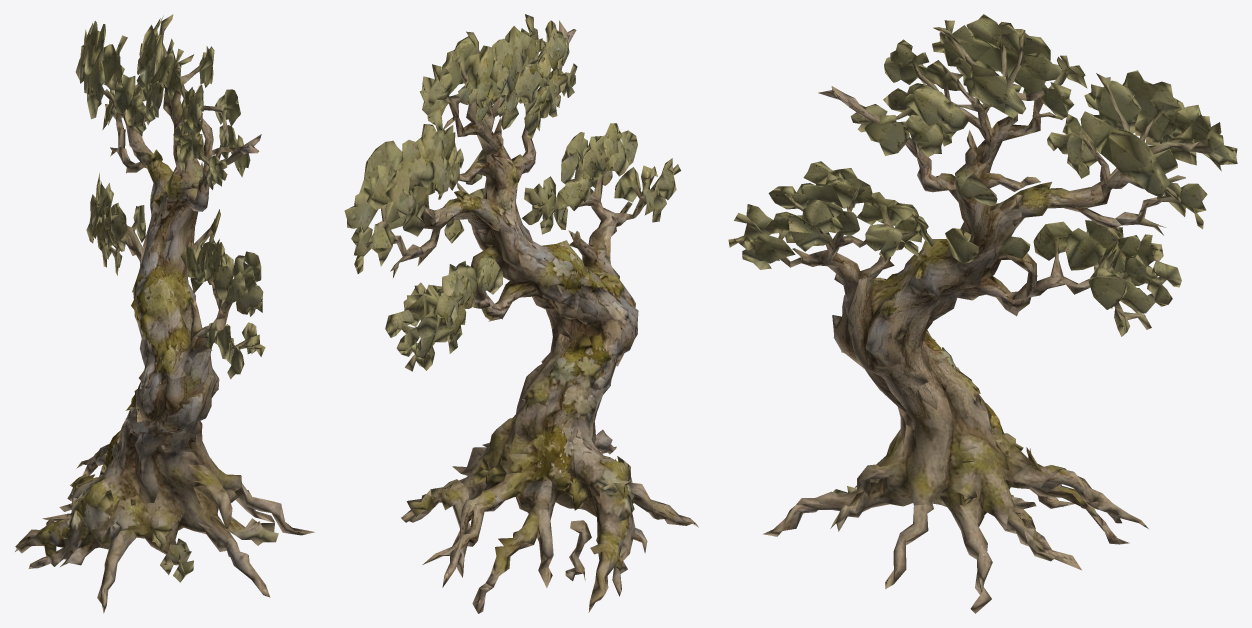
Rendered from wind_tree_c.glb.
The picture shows the model from 3 angles, left to right: view 1: azimuth 30°, elevation 25°; view 2: azimuth 150°, elevation 25°; view 3: azimuth 270°, elevation 25°; orthographic projection. The views are drawn at different scales.
Parts seen in each view (by area): view 1: wind_tree_c__tree; view 2: wind_tree_c__tree; view 3: wind_tree_c__tree.
Part boxes in pixels (bbox=[...]): wind_tree_c__tree: bbox=[15, 14, 314, 613]; wind_tree_c__tree: bbox=[344, 14, 698, 613]; wind_tree_c__tree: bbox=[728, 14, 1237, 613].
Bounding box in the file's own units: 1.42 × 3.08 × 2.58.
1 material, 1 textured.
